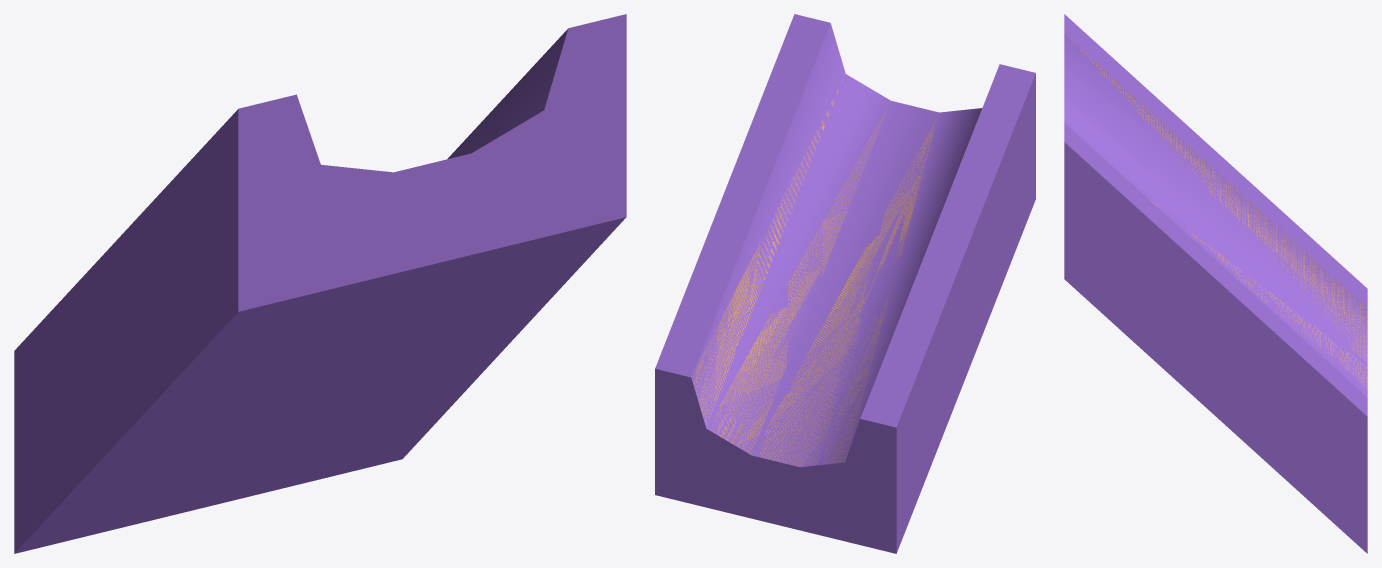
File: slant-c.glb
3 renders of one model, left to right at view 1: azimuth 30°, elevation 25°; view 2: azimuth 150°, elevation 25°; view 3: azimuth 270°, elevation 25°, orthographic. The views are drawn at different scales.
Parts seen in each view (by area): view 1: slant-c; view 2: slant-c; view 3: slant-c.
Boxes of the visible parts, x1,y1,x2,y2 form: slant-c: (14, 14, 626, 553); slant-c: (655, 14, 1035, 553); slant-c: (1064, 14, 1367, 553).
Size of the model in its own units: 1 by 1.5 by 1.
Materials: 1 (1 with a texture image).
